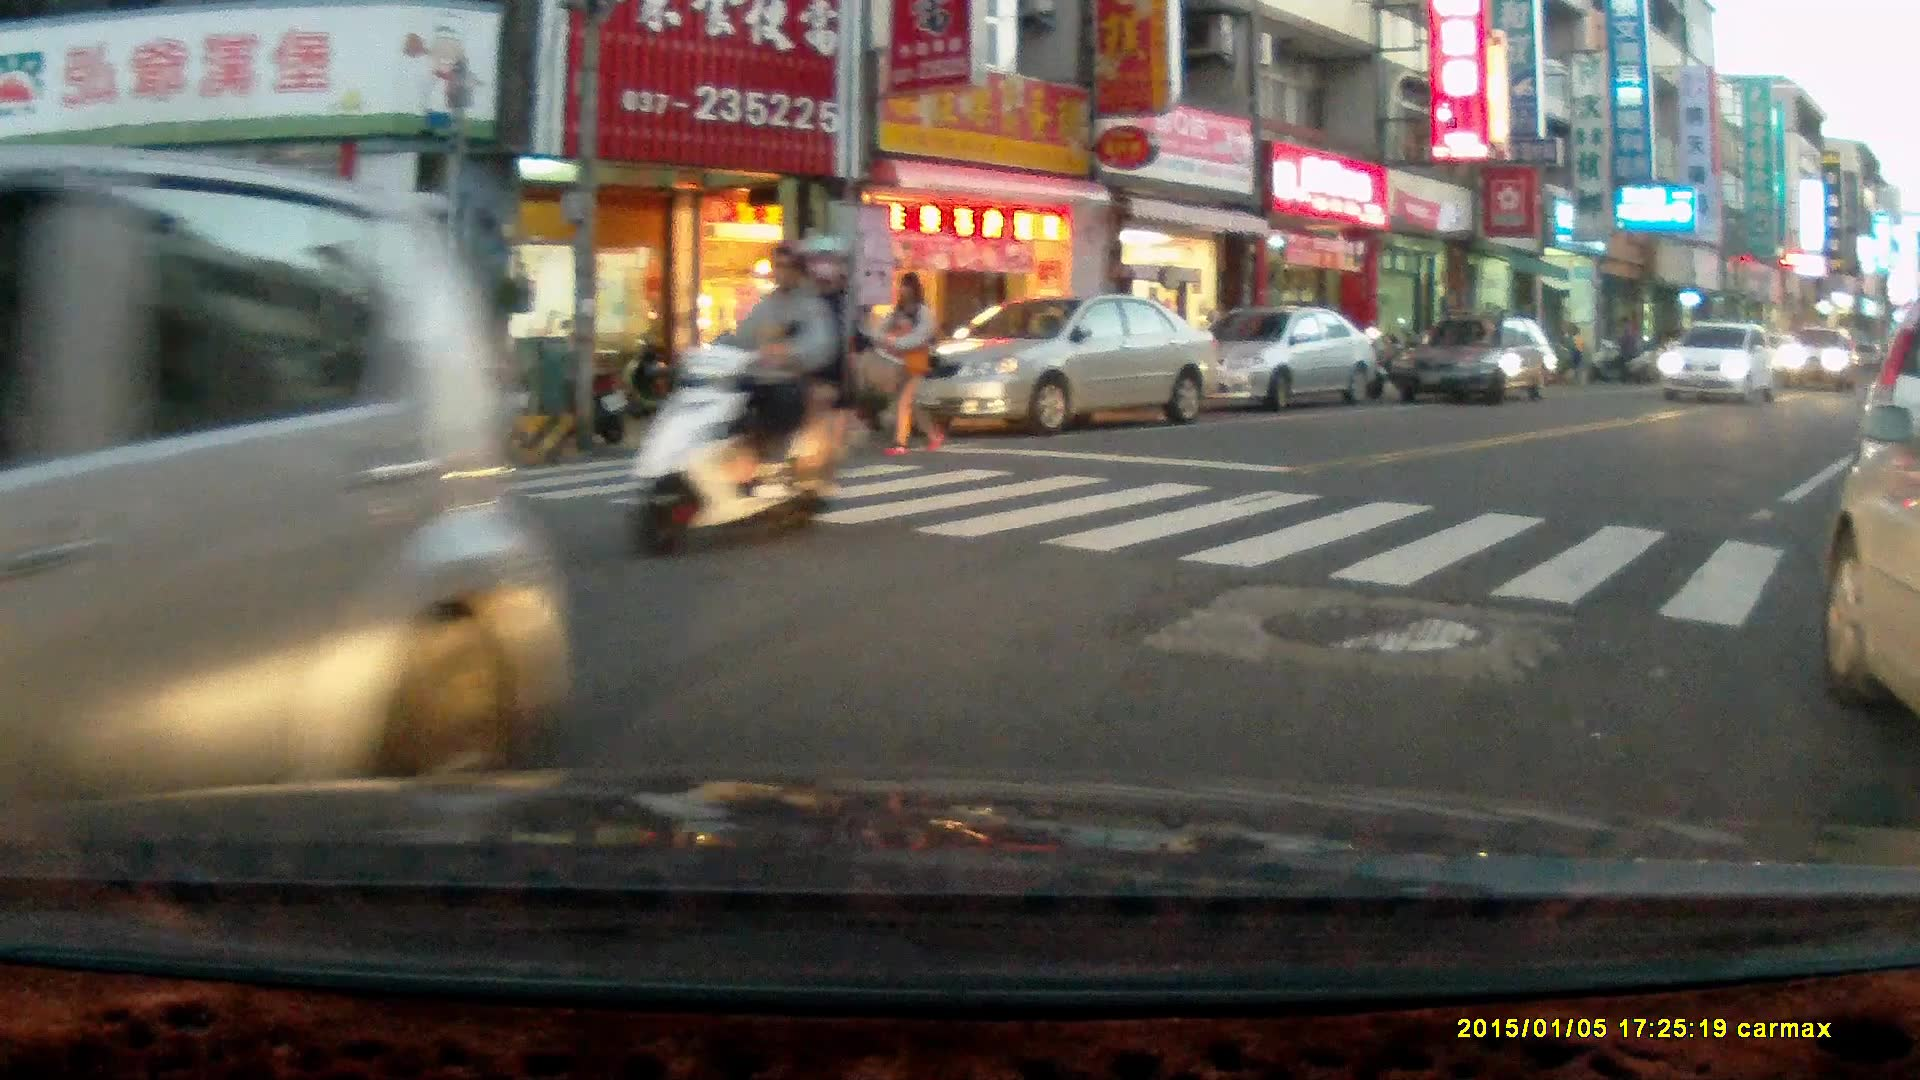pedestrian: (880, 267, 942, 457)
rider: (622, 230, 852, 561)
vehicle: (1, 145, 579, 806), (893, 291, 1223, 433), (1816, 414, 1920, 728), (1177, 305, 1379, 409), (1849, 307, 1920, 574), (1395, 312, 1560, 408), (1658, 319, 1780, 399), (1774, 321, 1866, 393)
